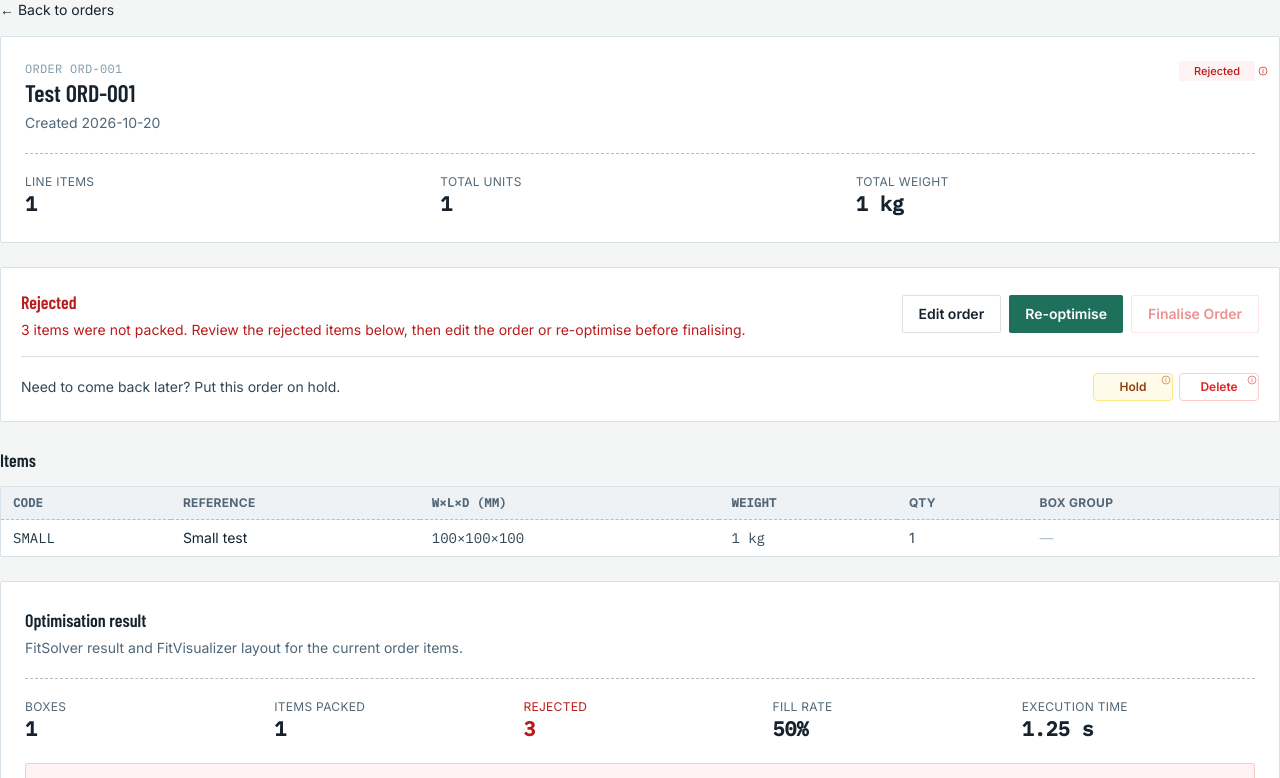
Scenario: order rejection display and recovery › keeps the last saved rejection result if re-optimisation fails
What coordinates should you click on to do the following:
click the button "Re-optimise"
I would click on:
 (1066, 314)
Its box is [1009,295,1123,333].
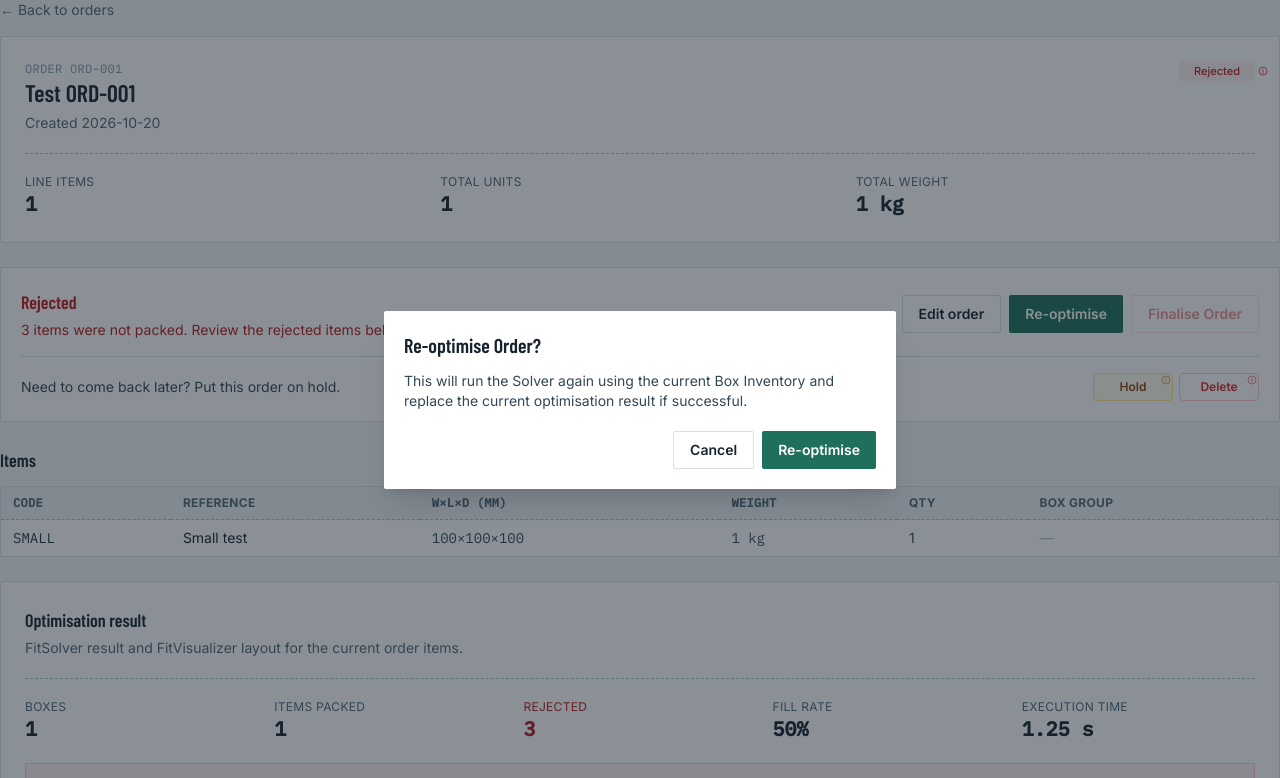
What coordinates should you click on to do the following:
click the button "Re-optimise"
I would click on:
 (819, 450)
Its box is [762,431,876,469].
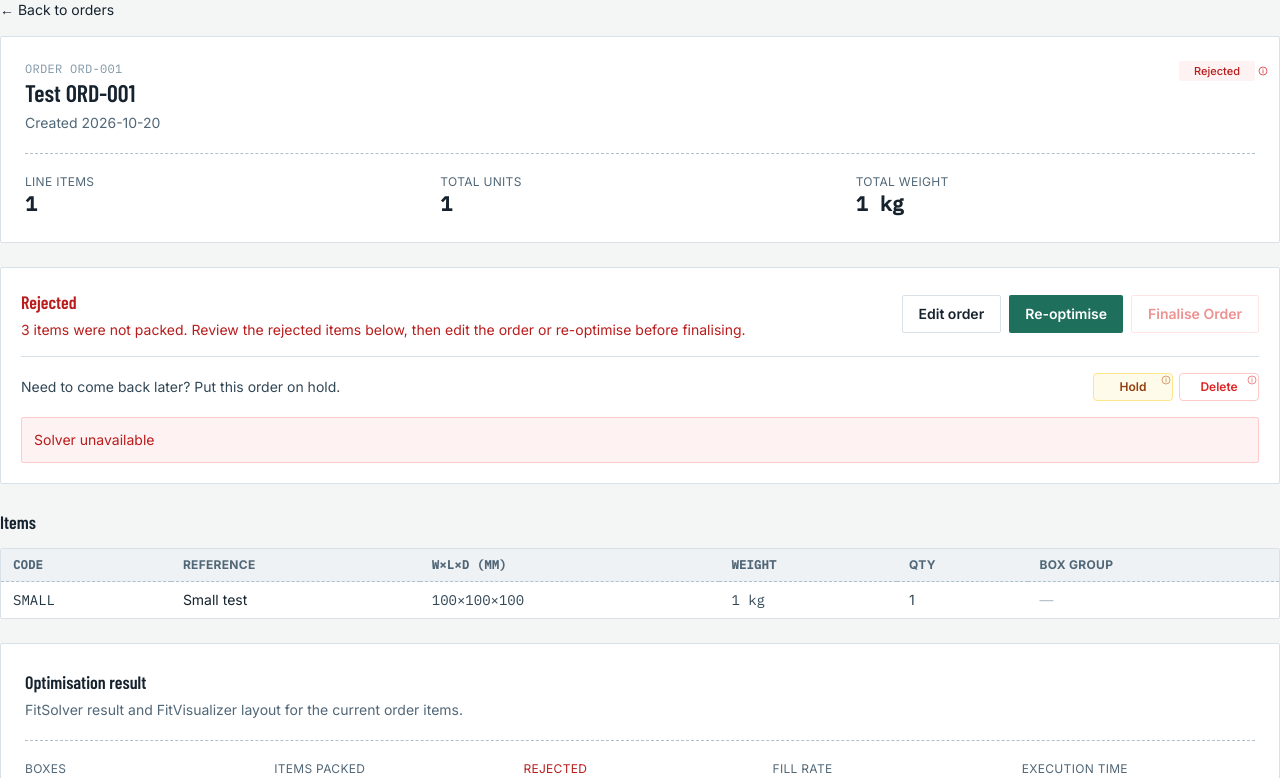
expect the text "Rejected" in the row of "Test ORD-001" is shown: met, box [1179,61,1255,81]
expect the text "Solver unavailable" is shown: met, box [21,417,1259,463]
